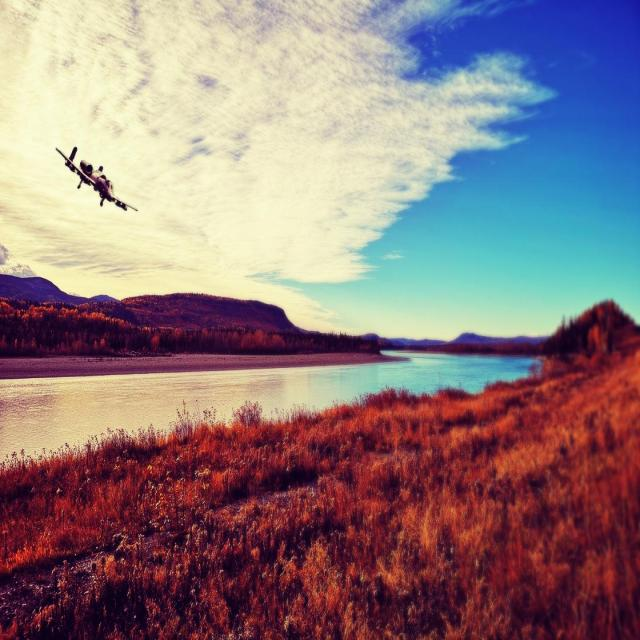airplane: (54, 145, 138, 212)
